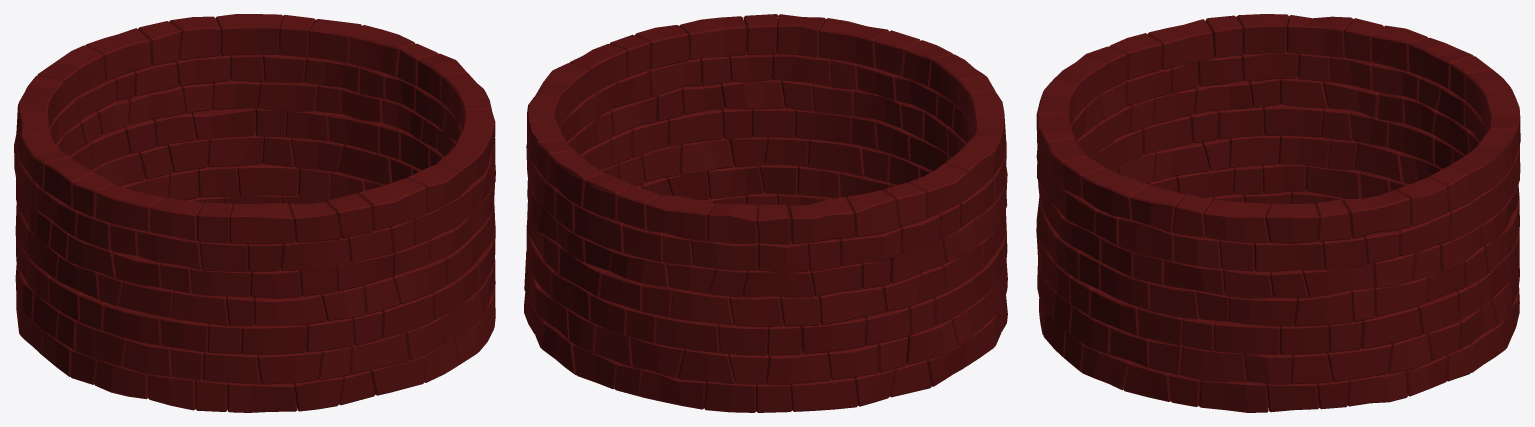
Rendered from wellSingle.fbx.
3 views of the same model, side by side, from view 1: azimuth 30°, elevation 25°; view 2: azimuth 150°, elevation 25°; view 3: azimuth 270°, elevation 25° (orthographic).
Visible parts, largest first — view 1: Cube; view 2: Cube; view 3: Cube.
Boxes of the visible parts, x1=… form: Cube: x1=14, y1=14, x2=495, y2=412; Cube: x1=524, y1=14, x2=1007, y2=412; Cube: x1=1036, y1=14, x2=1520, y2=412.
Size of the model in its own units: 3082 by 1411 by 3078.
